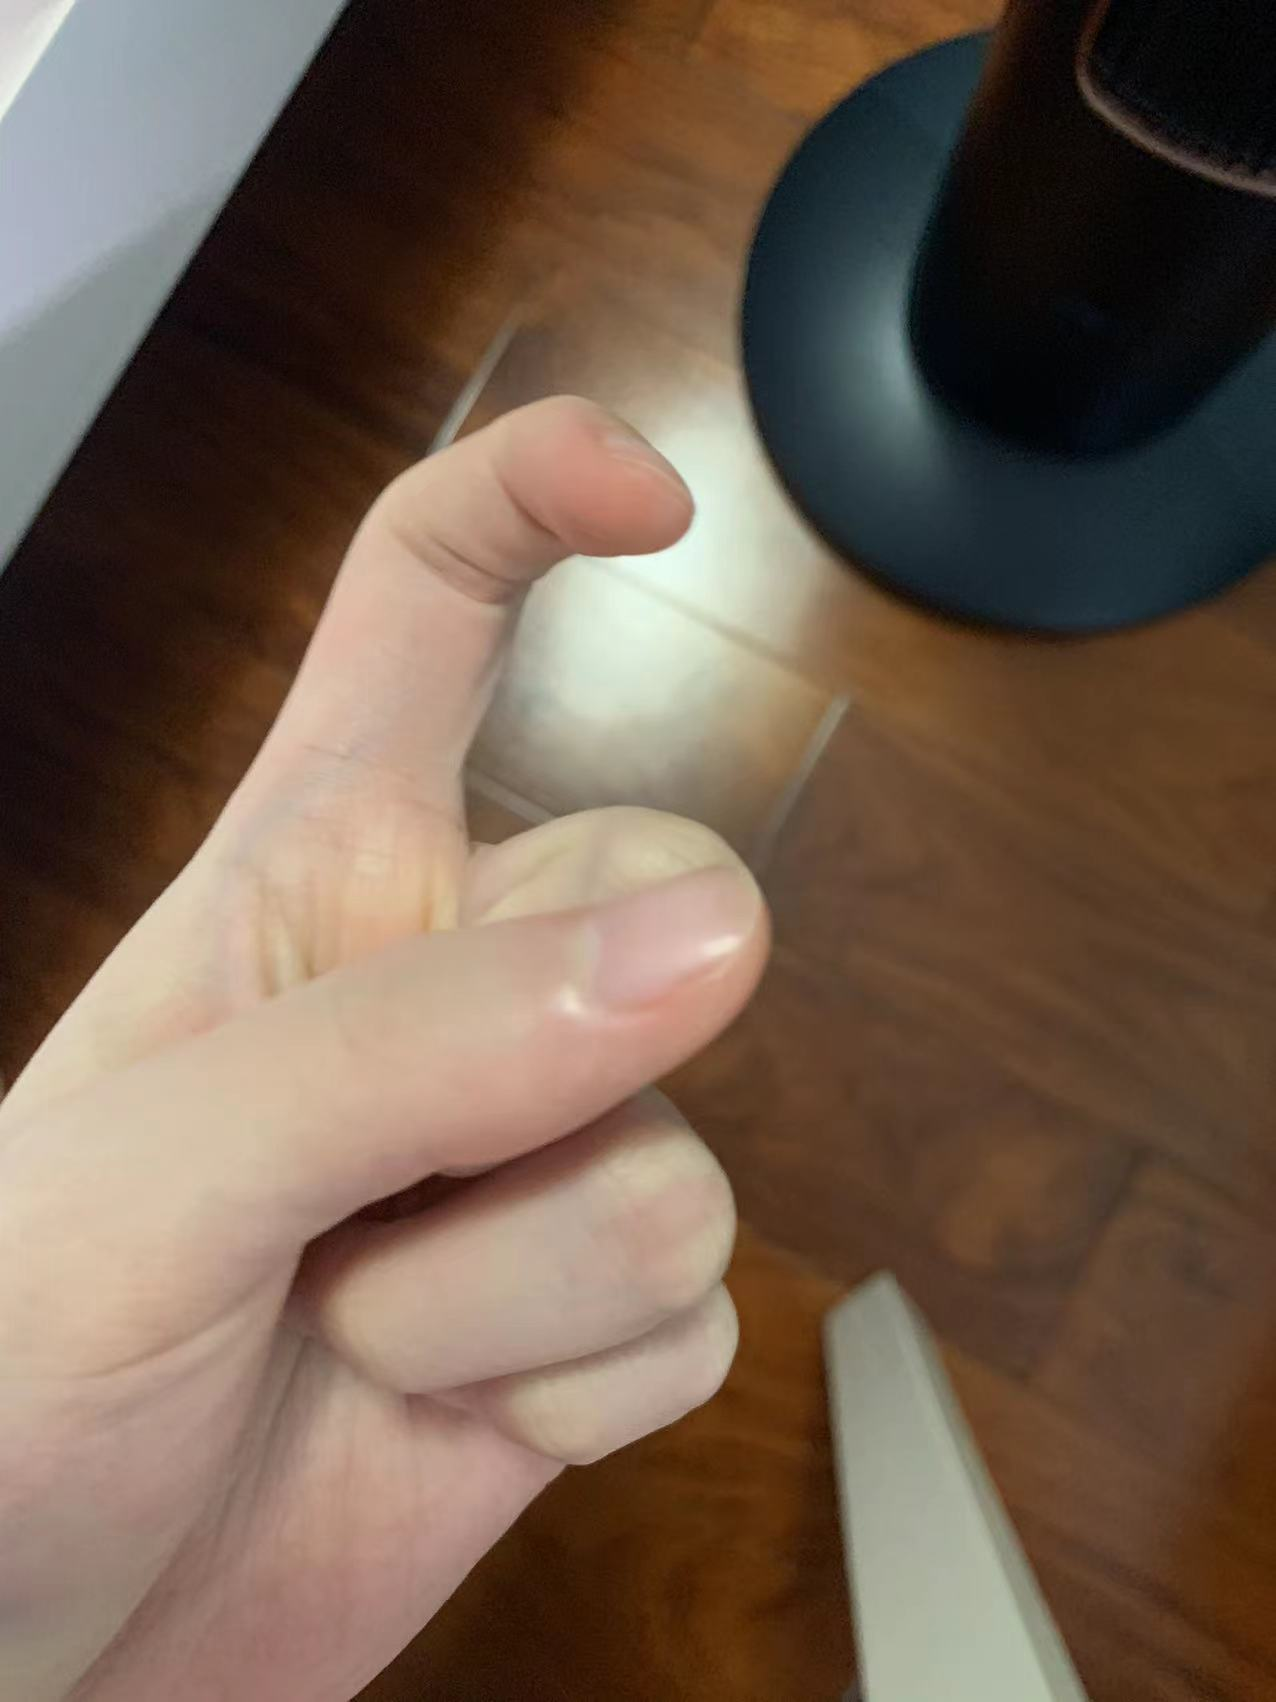anticlockwise: (40, 389, 780, 1539)
